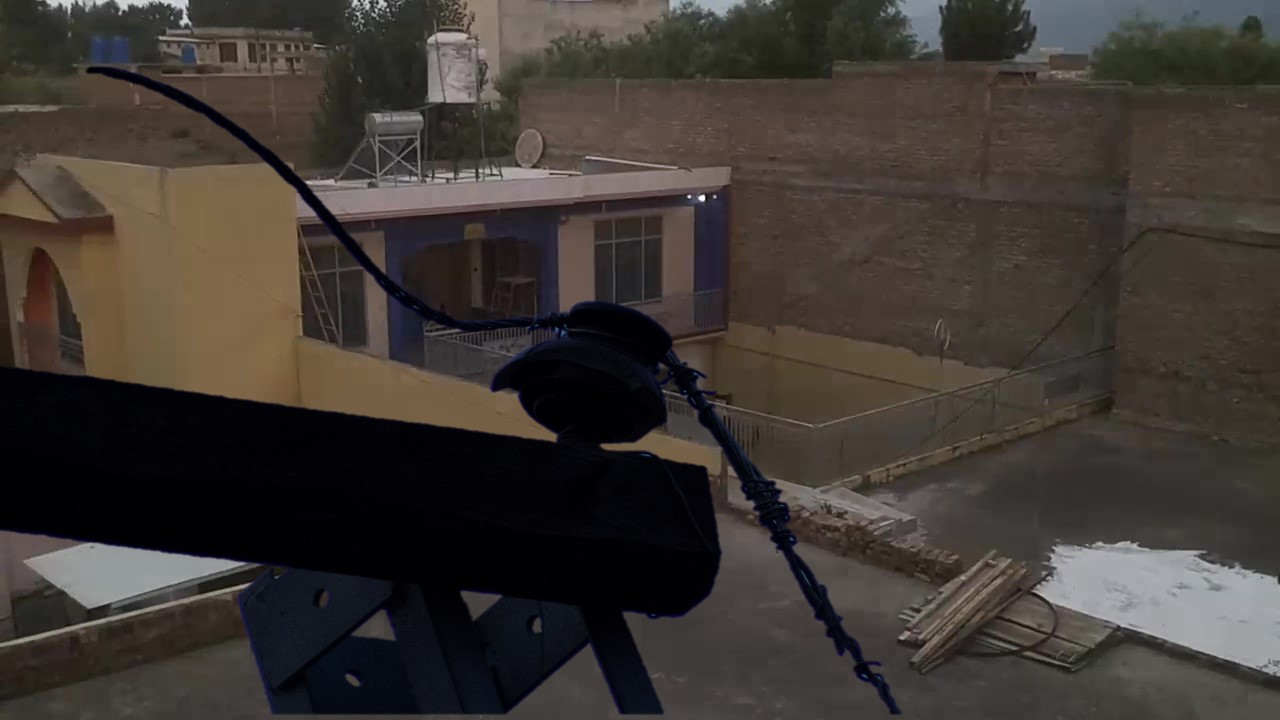defect_pin: (487, 294, 680, 448)
